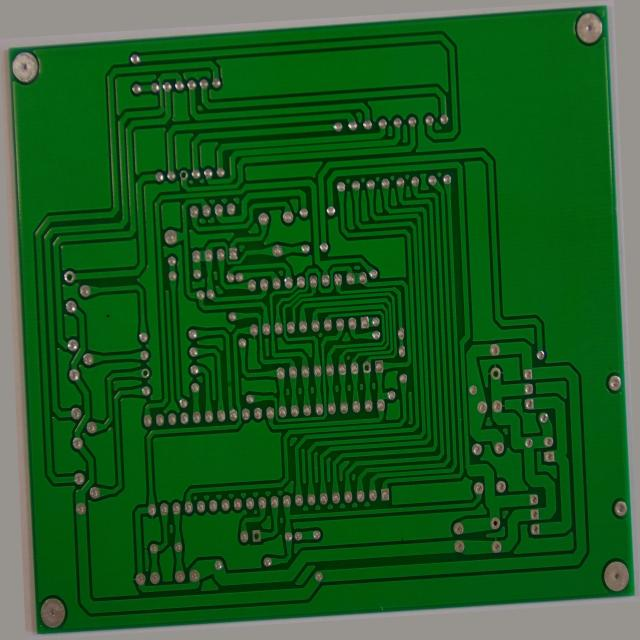missing_hole: (52, 247, 70, 266), (493, 379, 510, 398), (237, 535, 253, 554), (131, 356, 142, 373), (361, 365, 372, 382), (179, 149, 192, 163)
